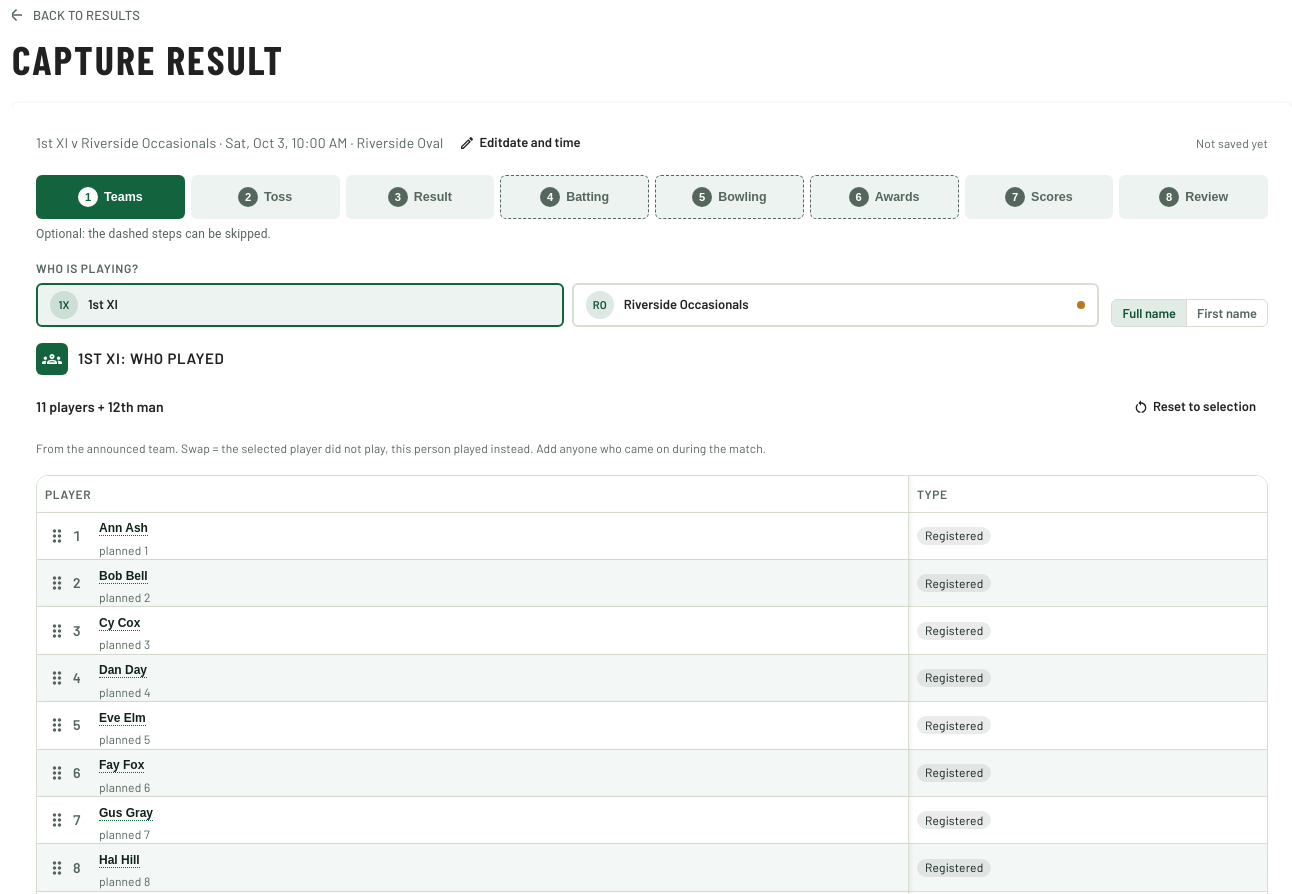
Test: Teams step › adds a row on Enter in the Add a name field and ignores Enter on an empty field
expect the text "Ann Ash" is shown: met, box x1=99 y1=521 x2=148 y2=536
Click the radio button labelled "RO Riverside Occasionals incomplete" at (686, 304), box x1=572 y1=283 x2=1099 y2=327
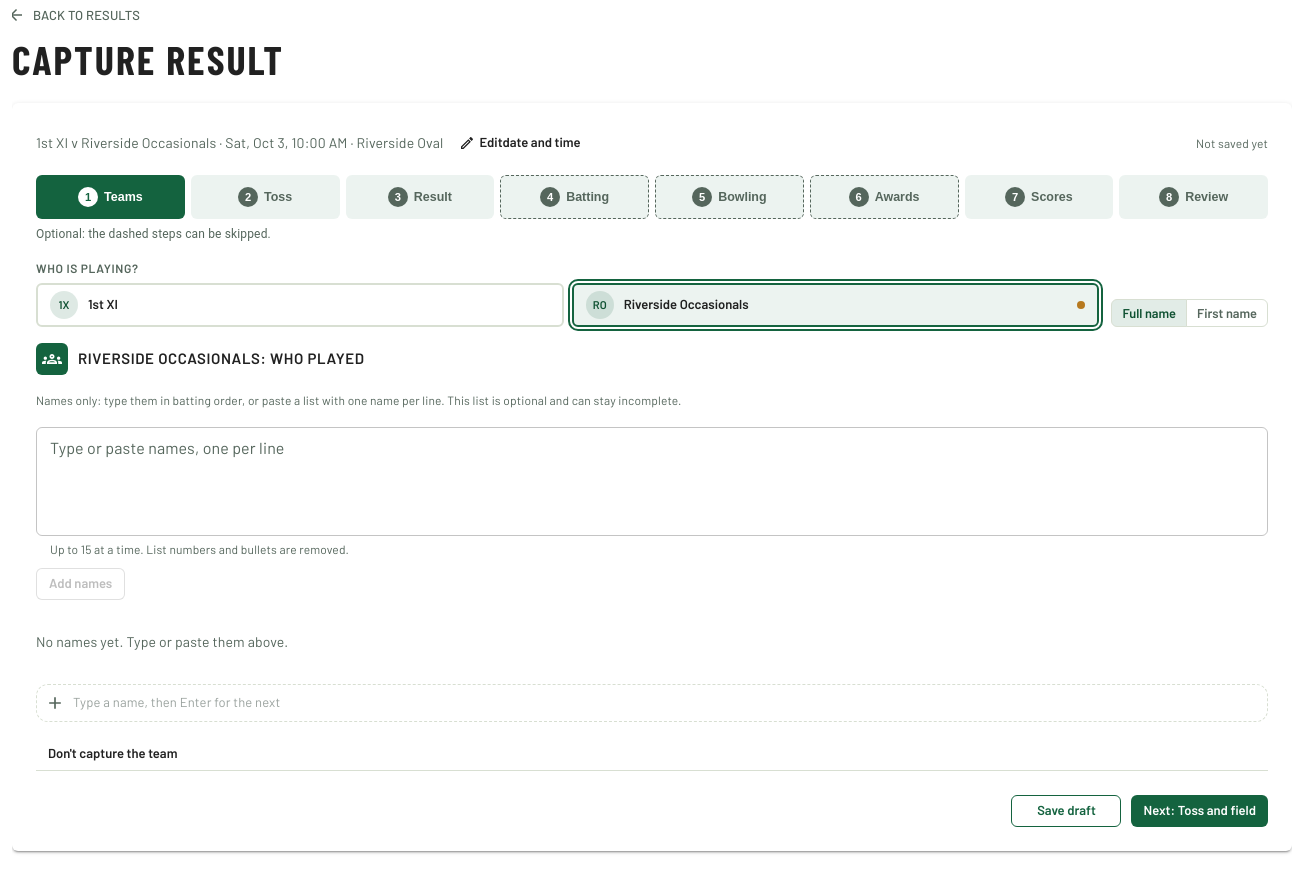
Click the field named "Add a name" at (666, 703), box x1=73 y1=689 x2=1259 y2=716
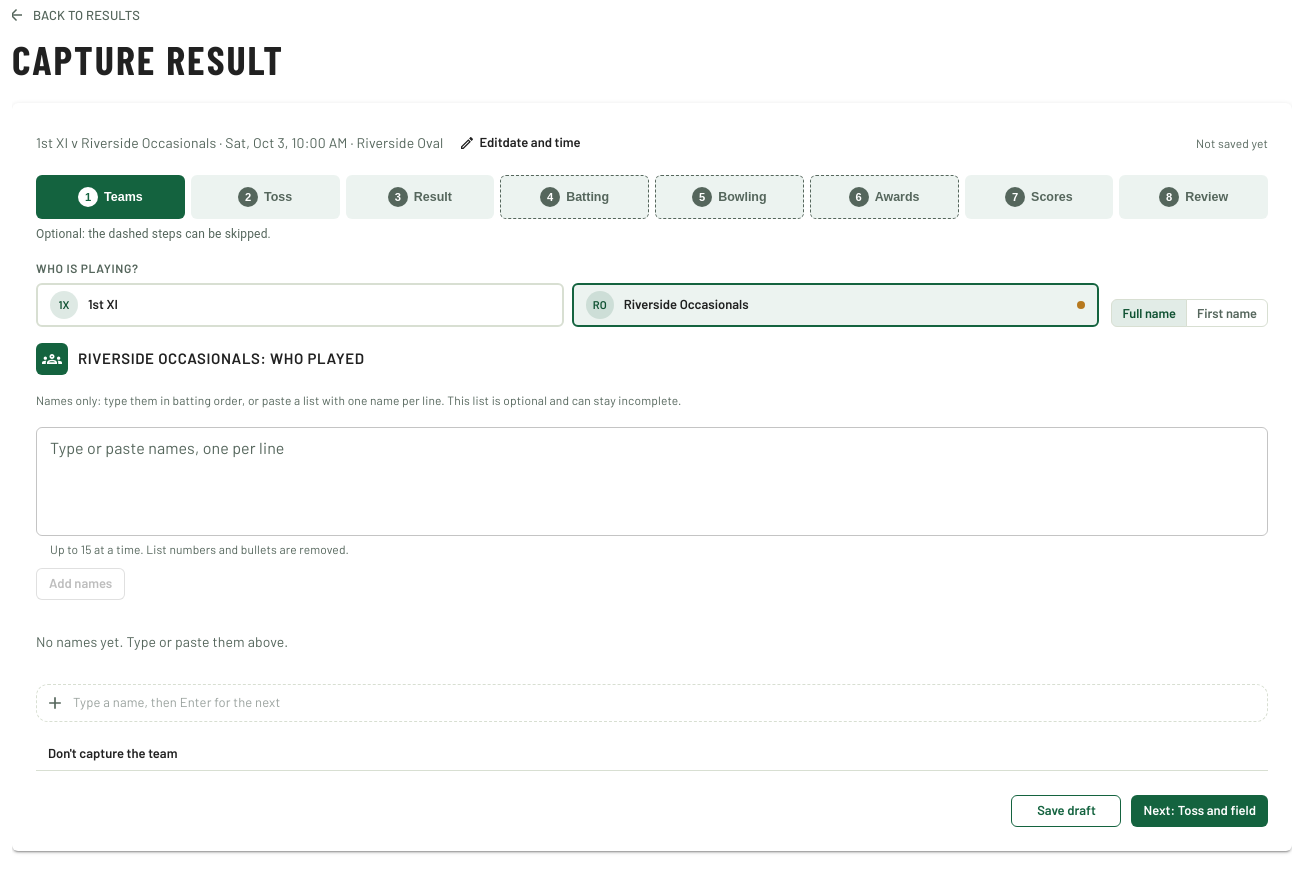
Press Enter
Type "Sam Jones" into the field named "Add a name" at (666, 703), box x1=73 y1=689 x2=1259 y2=716
Then press Enter
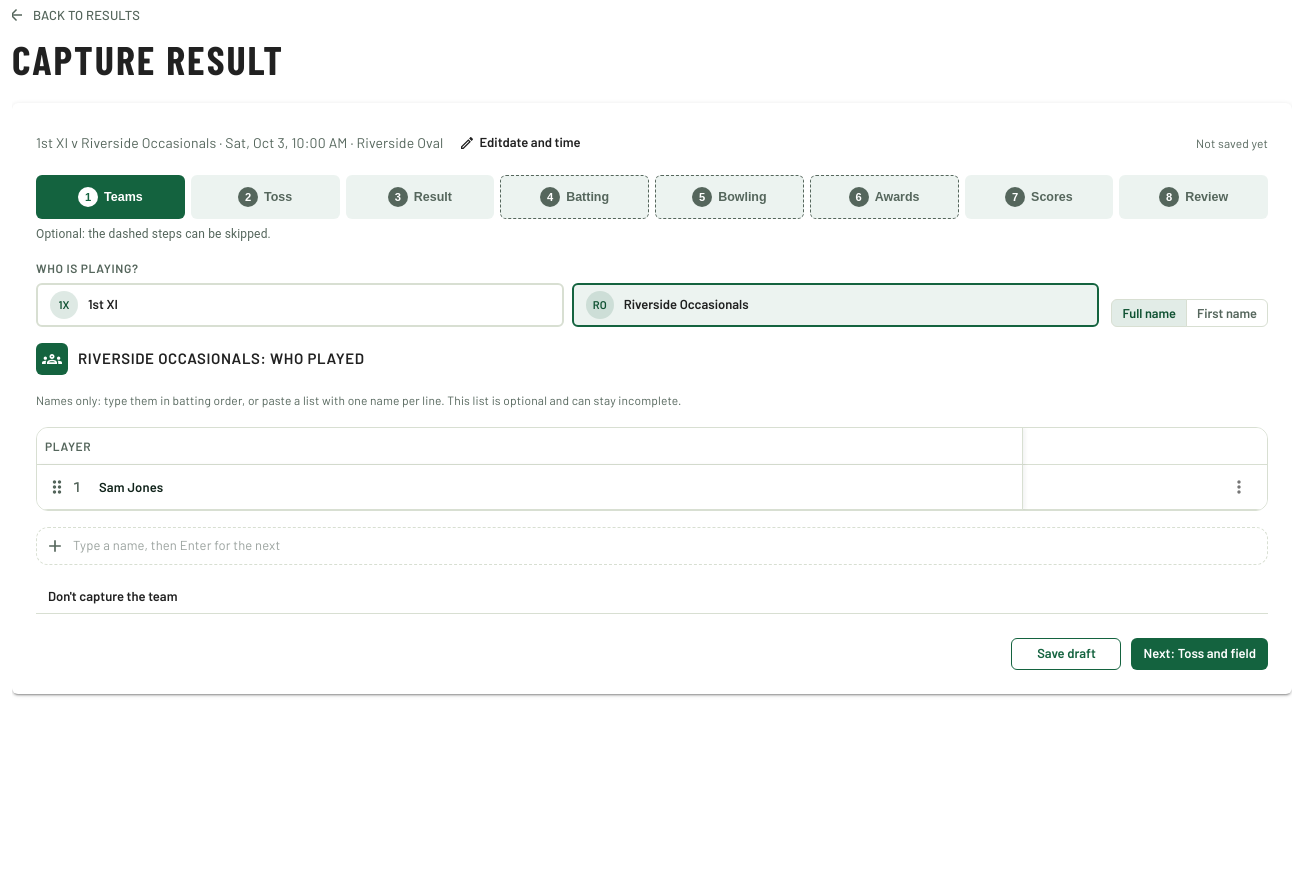
expect the field named "Name, Sam Jones" is shown: met, box x1=99 y1=475 x2=1015 y2=498
